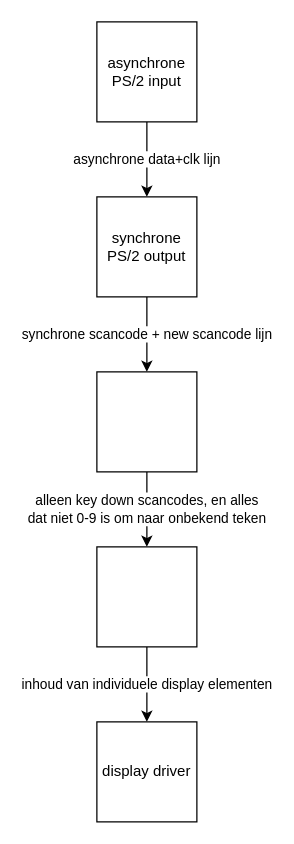
The diagram is 294 pixels wide and 844 high, and some of its shapes have lost their labels. The centre of each missing label's shape, as x and y in pixels:
"display content shift register" goes at pixel 146 596.
"scancode filter" goes at pixel 146 421.
